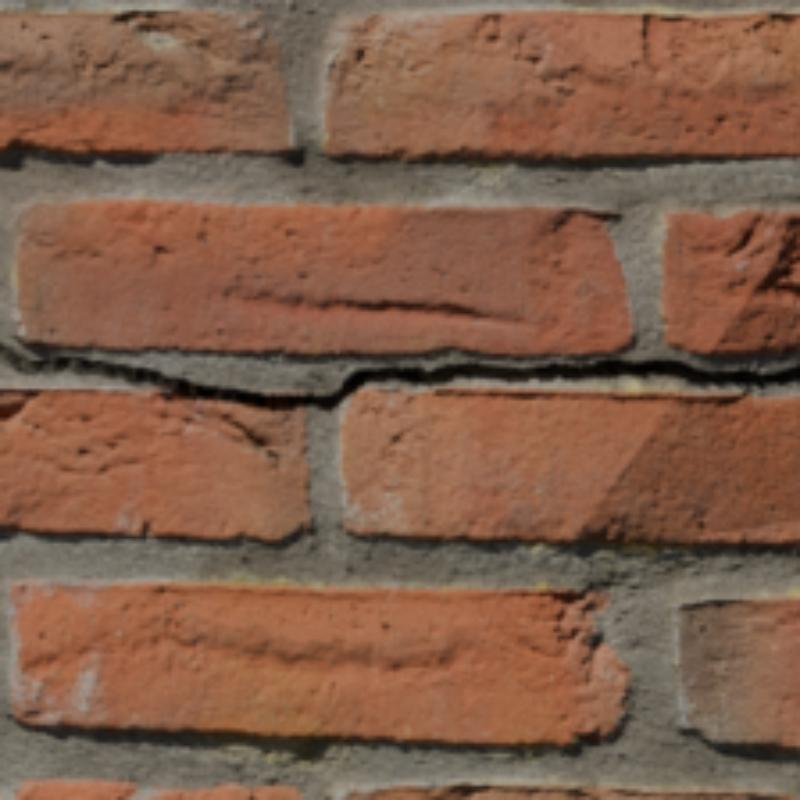pothole: (0, 343, 796, 407)
